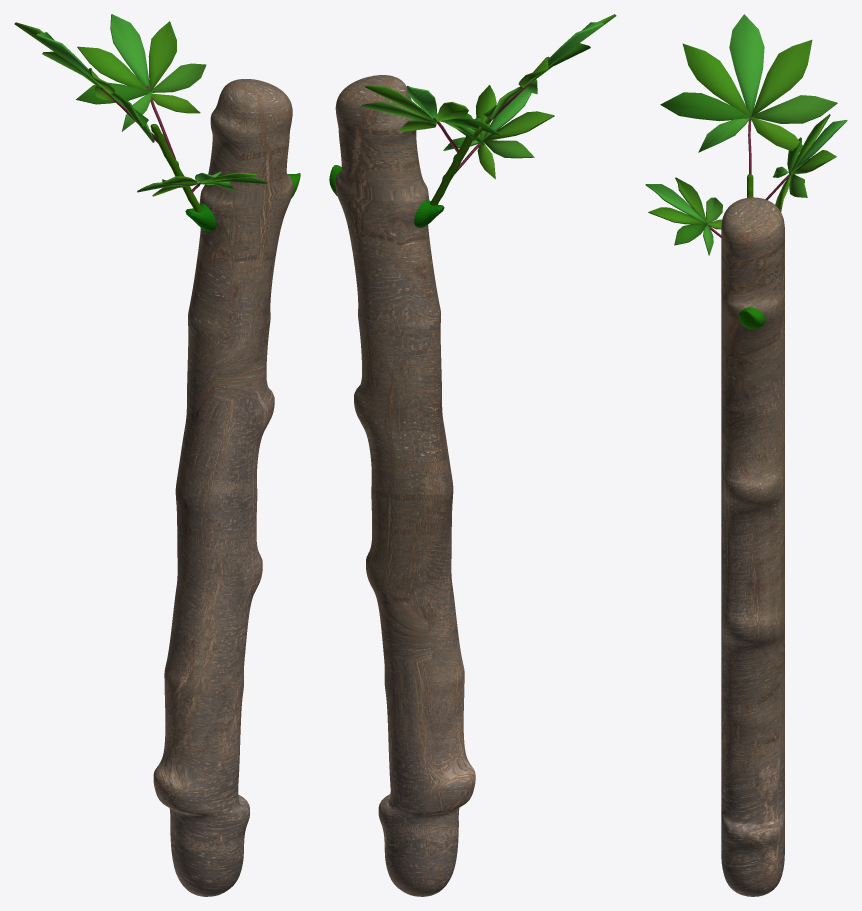
File: casava_1.glb
3 views of the same model, side by side, from view 1: azimuth 30°, elevation 25°; view 2: azimuth 150°, elevation 25°; view 3: azimuth 270°, elevation 25° (orthographic). The views are drawn at different scales.
Parts seen in each view (by area): view 1: Plane, Plane.018, Plane.019, Plane.020, Plane.023, Plane.021, Plane.001, Plane.010, Plane.024; view 2: Plane, Plane.027, Plane.001, Plane.031, Plane.026, Plane.019, Plane.010; view 3: Plane, Plane.010, Plane.011, Plane.012, Plane.013, Plane.015, Plane.016, Plane.014, Plane.026, Plane.018, Plane.028, Plane.027 (+3 smaller).
Part boxes in pixels (x1=…): Plane: x1=153, y1=79, x2=293, y2=896; Plane.018: x1=110, y1=14, x2=150, y2=90; Plane.019: x1=148, y1=21, x2=176, y2=90; Plane.020: x1=77, y1=46, x2=148, y2=90; Plane.023: x1=152, y1=63, x2=206, y2=92; Plane.021: x1=75, y1=82, x2=154, y2=104; Plane.001: x1=150, y1=124, x2=202, y2=212; Plane.010: x1=36, y1=32, x2=105, y2=90; Plane.024: x1=152, y1=93, x2=200, y2=113; Plane: x1=335, y1=75, x2=475, y2=896; Plane.027: x1=483, y1=111, x2=554, y2=140; Plane.001: x1=430, y1=118, x2=481, y2=205; Plane.031: x1=482, y1=140, x2=534, y2=158; Plane.026: x1=483, y1=87, x2=531, y2=139; Plane.019: x1=365, y1=85, x2=434, y2=120; Plane.010: x1=527, y1=22, x2=603, y2=83; Plane: x1=721, y1=197, x2=784, y2=896; Plane.010: x1=729, y1=14, x2=764, y2=120; Plane.011: x1=751, y1=40, x2=812, y2=115; Plane.012: x1=682, y1=43, x2=752, y2=118; Plane.013: x1=660, y1=92, x2=755, y2=121; Plane.015: x1=750, y1=95, x2=837, y2=123; Plane.016: x1=750, y1=116, x2=802, y2=152; Plane.014: x1=698, y1=118, x2=749, y2=152; Plane.026: x1=645, y1=184, x2=709, y2=225; Plane.018: x1=791, y1=120, x2=847, y2=173; Plane.028: x1=648, y1=207, x2=708, y2=224; Plane.027: x1=675, y1=177, x2=706, y2=222.
Bounding box in the file's own units: 1.62 × 5.23 × 1.19.
Materials: 12 (1 with a texture image).
